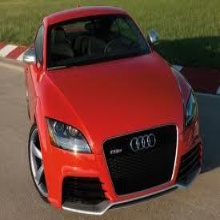no damage: (23, 5, 203, 215)
